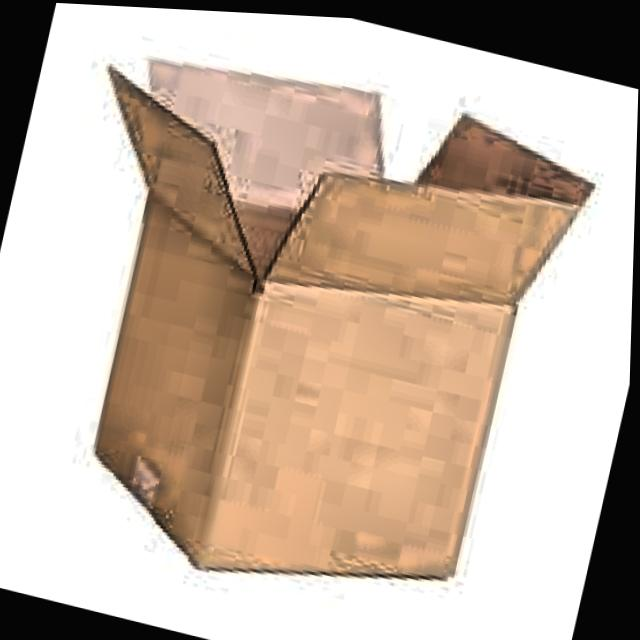Cardbox: (0, 5, 615, 640)
